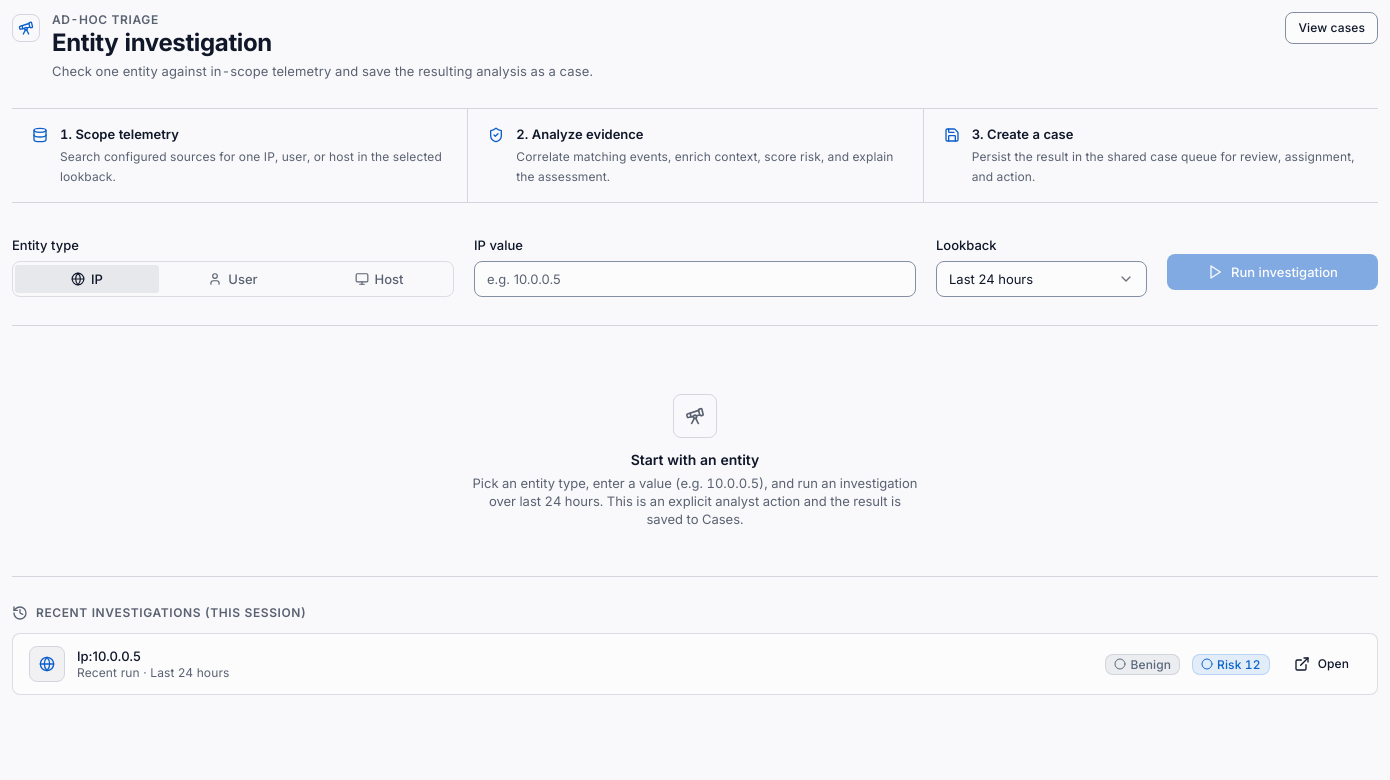
Test: Investigate — Round-6 sweep › clears a stale empty-submit error when a recent run is replayed
# Trigger the empty-submit error.
Press Enter in the field named "IP to investigate", box [474,261,916,297]
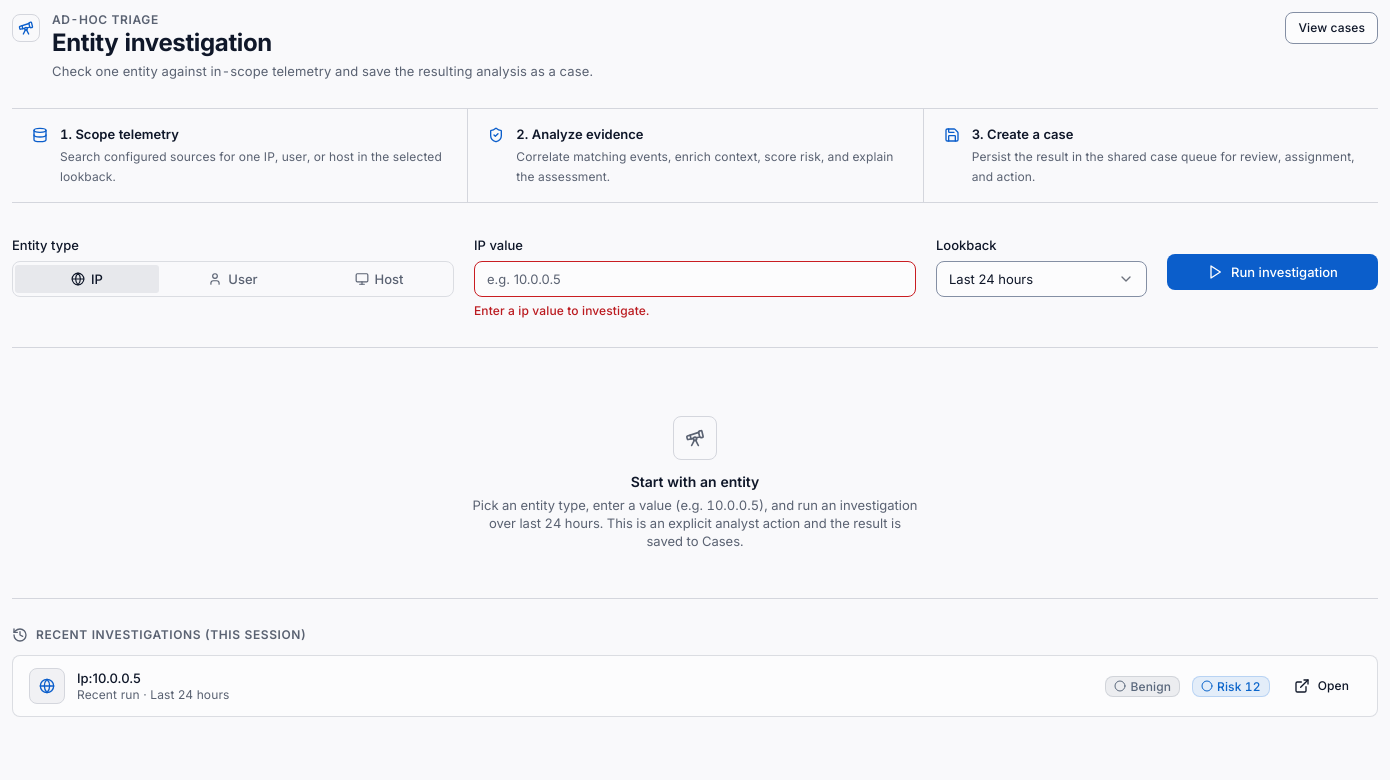
Result: the message "Enter a ip value to investigate." is shown at [474,303,649,318]
# Replay the recent run — the field is repopulated with a valid value.
Click the button "Ip:10.0.0.5 Recent run · Last 24 hours" at [47, 686], box [29,668,1094,704]
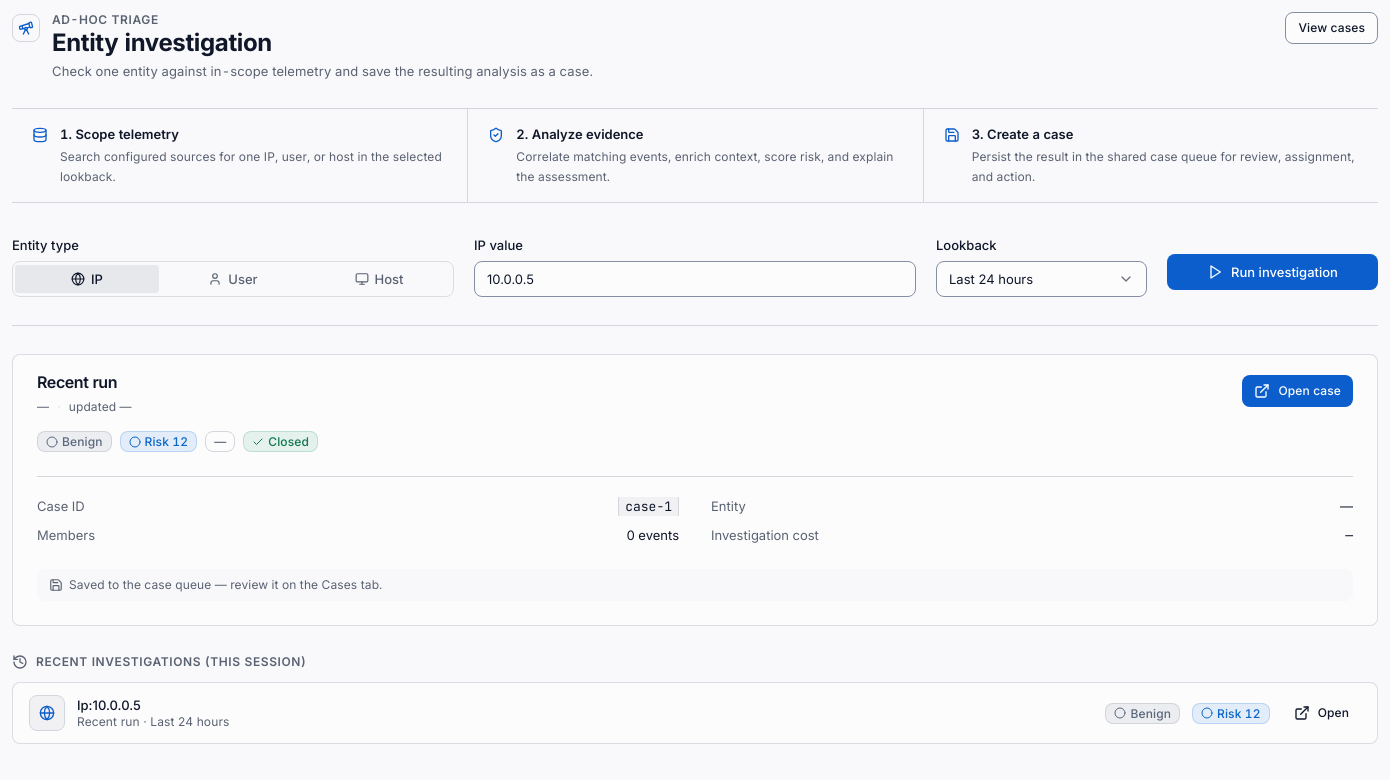
Result: the field named "IP to investigate" holds "10.0.0.5" at [474,261,916,297]
Result: the message "Enter a ip value to investigate." is gone
